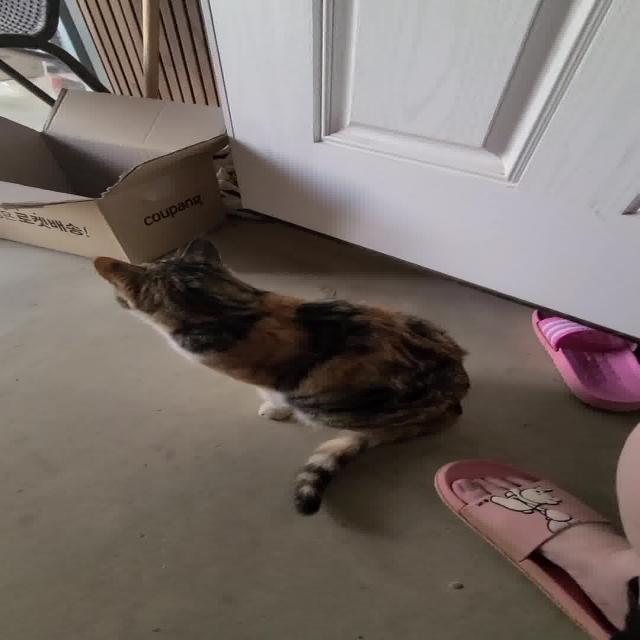cat: (77, 225, 445, 536)
